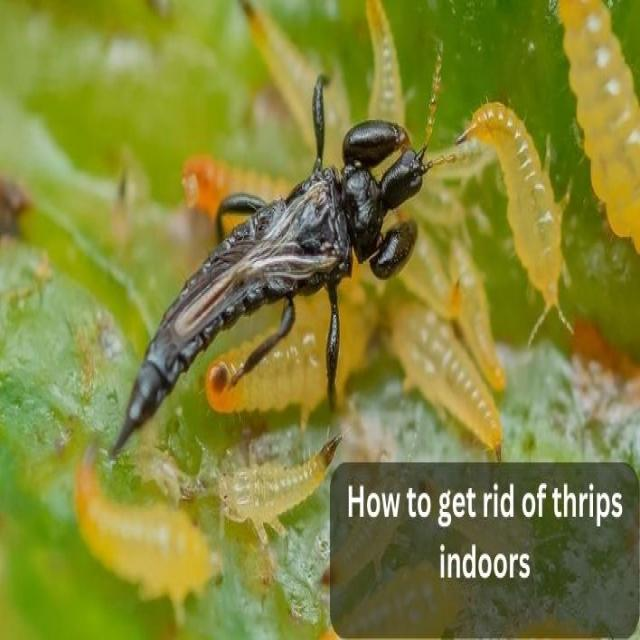Thrip-Larva-: (210, 422, 348, 538)
